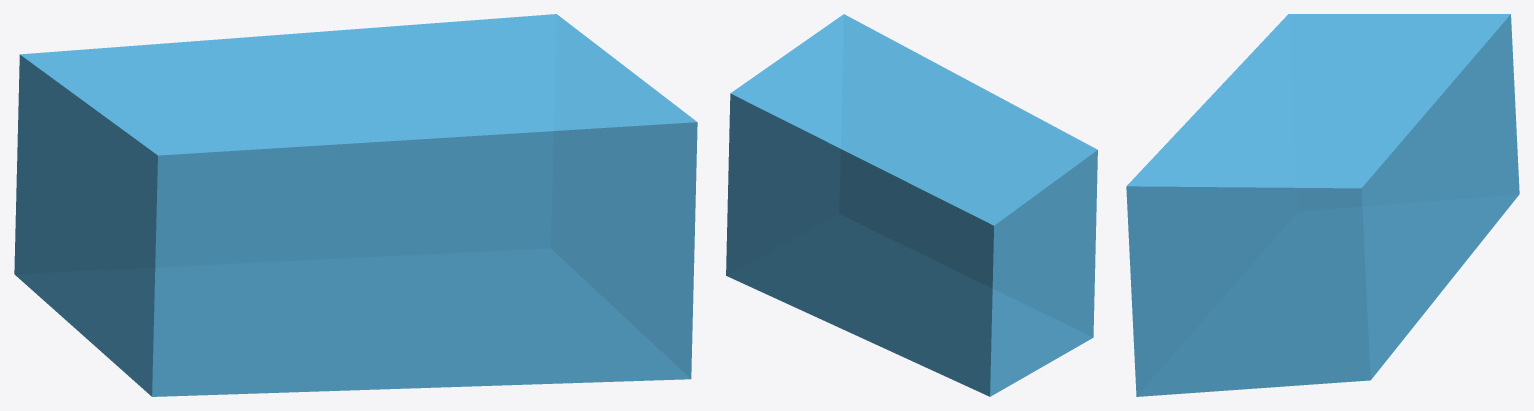
Rendered from Event_421115418_HErechit_90.fbx.
3 renders of one model, left to right at view 1: azimuth 30°, elevation 25°; view 2: azimuth 150°, elevation 25°; view 3: azimuth 270°, elevation 25°, orthographic. The views are drawn at different scales.
Visible parts, largest first — view 1: Model; view 2: Model; view 3: Model.
Boxes of the visible parts, x1=… form: Model: x1=14, y1=14, x2=697, y2=396; Model: x1=726, y1=14, x2=1097, y2=396; Model: x1=1126, y1=14, x2=1519, y2=396.
Bounding box in the file's own units: 0.7258 × 0.4087 × 0.6918.
